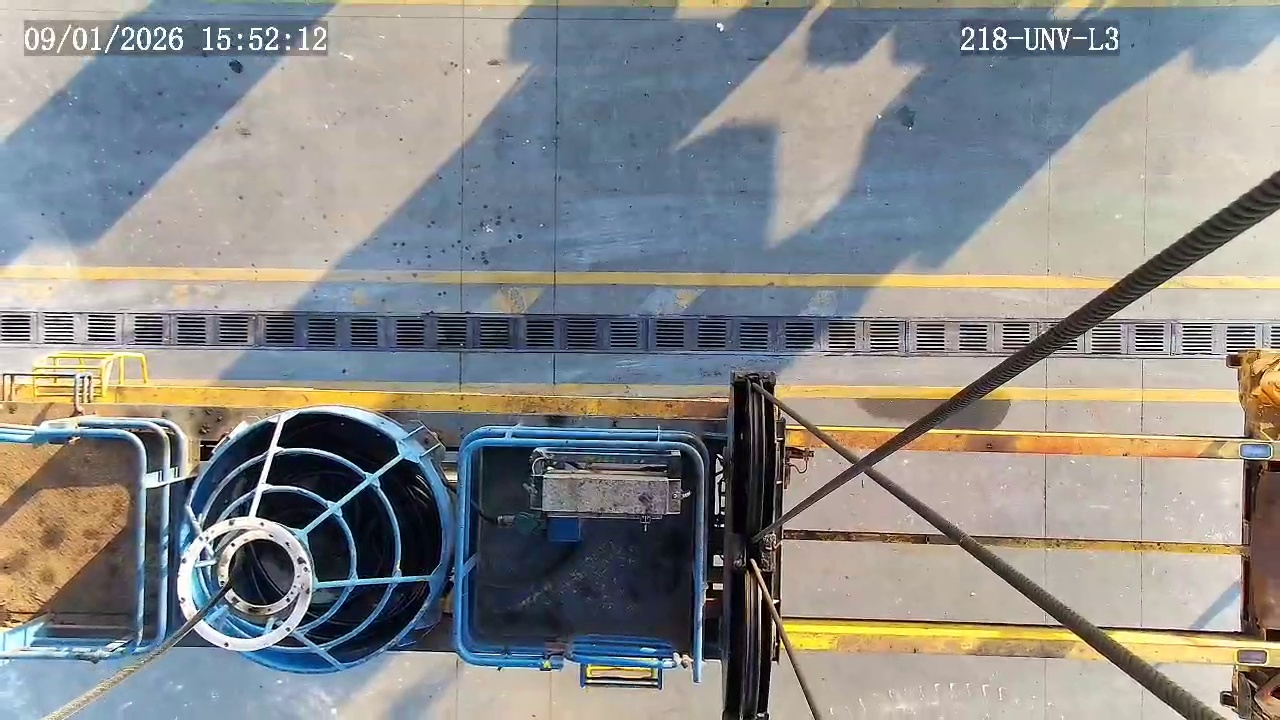right: (179, 410, 446, 675)
